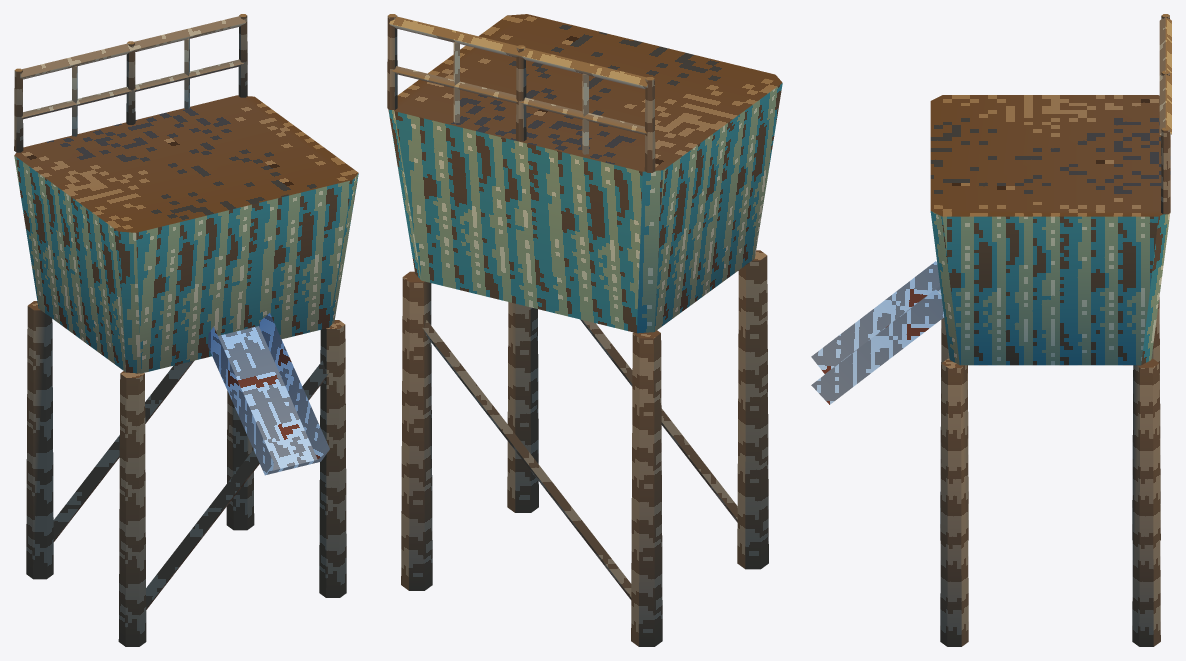
File: wmine.ore_bin.glb
3 views of the same model, side by side, from view 1: azimuth 30°, elevation 25°; view 2: azimuth 150°, elevation 25°; view 3: azimuth 270°, elevation 25° (orthographic). The views are drawn at different scales.
Visible parts, largest first — view 1: kit_bin, kit_stilts, kit_chute, kit_rail, kit_braces; view 2: kit_bin, kit_stilts, kit_rail, kit_braces; view 3: kit_bin, kit_stilts, kit_chute, kit_rail.
Part boxes in pixels (x1,y1,x2,y2): kit_bin: [14, 95, 358, 373]; kit_stilts: [26, 301, 346, 646]; kit_chute: [208, 313, 329, 475]; kit_rail: [14, 14, 247, 152]; kit_braces: [53, 360, 327, 609]; kit_bin: [388, 14, 782, 333]; kit_stilts: [401, 250, 768, 646]; kit_rail: [387, 14, 655, 172]; kit_braces: [422, 319, 737, 599]; kit_bin: [930, 95, 1170, 365]; kit_stilts: [940, 297, 1160, 646]; kit_chute: [811, 261, 943, 404]; kit_rail: [1159, 14, 1171, 214].
Size of the model in its own units: 3 by 5.96 by 3.76.
Materials: 6 (6 with a texture image).
